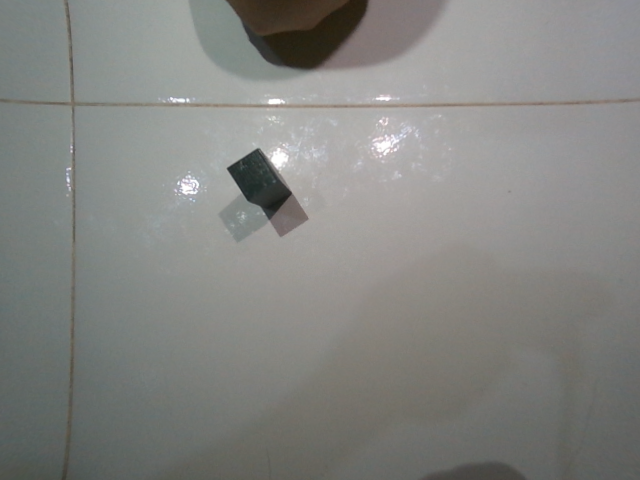Balok-Hitam: (225, 149, 291, 211)
